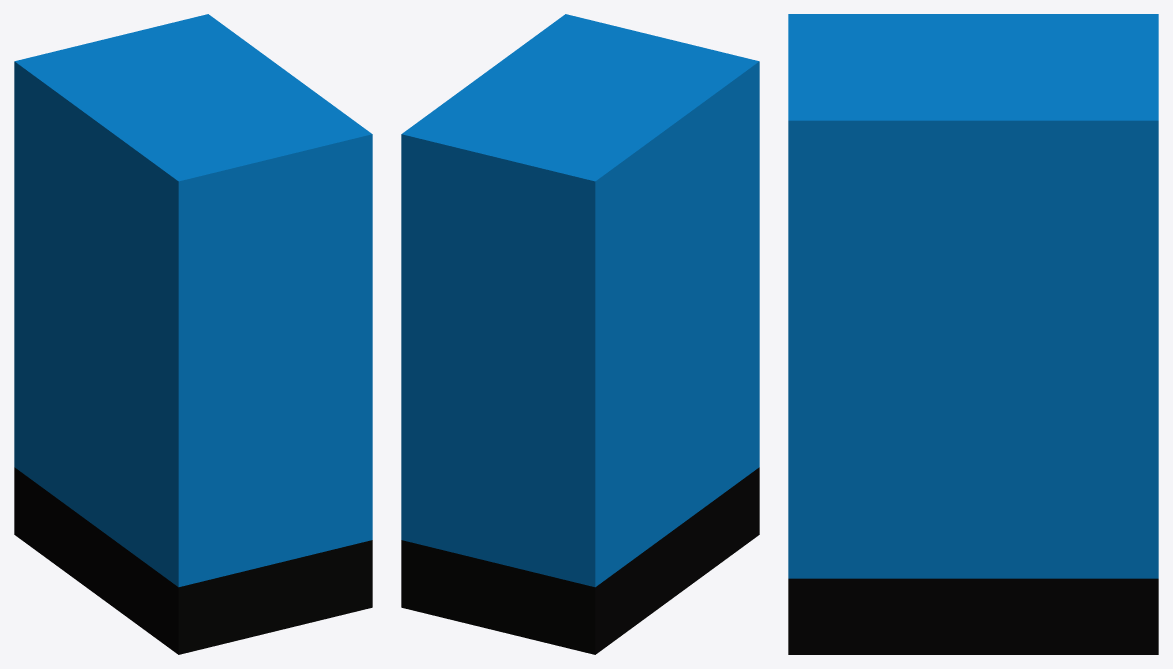
Rendered from officeman2-2.obj.
The picture shows the model from 3 angles, left to right: view 1: azimuth 30°, elevation 25°; view 2: azimuth 150°, elevation 25°; view 3: azimuth 270°, elevation 25°; orthographic projection. The views are drawn at different scales.
Bounding box in the file's own units: 1.5 × 3.5 × 2.2.
Materials: 1 (1 with a texture image).
